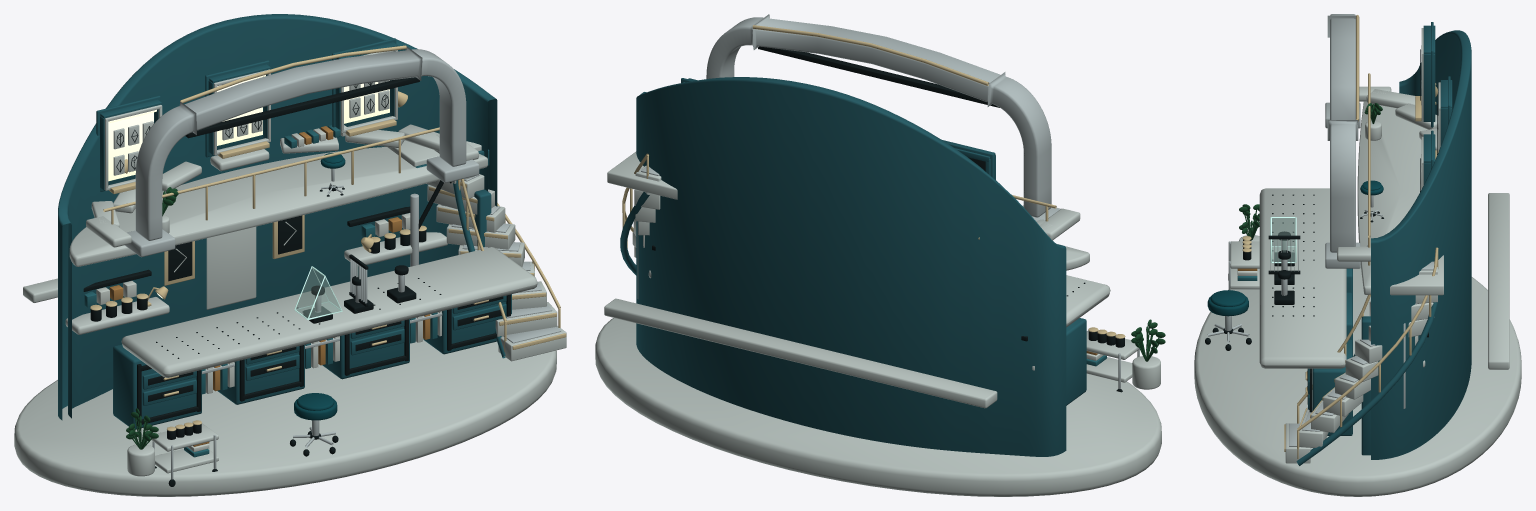
File: lab.glb
The picture shows the model from 3 angles, left to right: view 1: azimuth 30°, elevation 25°; view 2: azimuth 150°, elevation 25°; view 3: azimuth 270°, elevation 25°; orthographic projection. The views are drawn at different scales.
Parts seen in each view (by area): view 1: ART_CURVED_WALL, ART_PLINTH, ALCOVE_INSET_FRAME_-2.75_-0.63_0, ART_OPTICAL_BENCH, ALCOVE_FRAME_-2.75, ART_UPPER_GALLERY, ART_GANTRY, ALCOVE_ENGRAVING_0_0_0_AXIS, ALCOVE_SILL_0, GANTRY_FOOT_LEFT, ALCOVE_GLOW_-2.75, BOOK_1 (+5 smaller); view 2: ART_CURVED_WALL, ART_PLINTH, ALCOVE_INSET_FRAME_-2.75_-0.63_0, ART_GANTRY, ALCOVE_FRAME_-2.75, ALCOVE_ENGRAVING_0_0_0_AXIS, ALCOVE_SILL_0, ART_OPTICAL_BENCH, PLANT_LEAF_0; view 3: ART_PLINTH, ART_CURVED_WALL, ALCOVE_INSET_FRAME_-2.75_-0.63_0, ART_OPTICAL_BENCH, ART_UPPER_GALLERY, ART_GANTRY, ALCOVE_FRAME_-2.75, ALCOVE_SILL_0, GANTRY_FOOT_LEFT, ALCOVE_ENGRAVING_0_0_0_AXIS, STOOL_CUSHION, PRISM_GLASSSOLID (+1 smaller).
Boxes of the visible parts, <box> form: ART_CURVED_WALL: <box>58,14,497,420</box>; ART_PLINTH: <box>14,338,556,496</box>; ALCOVE_INSET_FRAME_-2.75_-0.63_0: <box>23,50,566,476</box>; ART_OPTICAL_BENCH: <box>121,247,537,377</box>; ALCOVE_FRAME_-2.75: <box>96,38,511,429</box>; ART_UPPER_GALLERY: <box>69,147,487,266</box>; ART_GANTRY: <box>135,46,466,240</box>; ALCOVE_ENGRAVING_0_0_0_AXIS: <box>83,77,510,486</box>; ALCOVE_SILL_0: <box>90,45,566,431</box>; GANTRY_FOOT_LEFT: <box>124,156,561,479</box>; ALCOVE_GLOW_-2.75: <box>108,75,389,298</box>; BOOK_1: <box>96,125,441,451</box>; ART_CURVED_WALL: <box>636,77,1066,456</box>; ART_PLINTH: <box>595,318,1161,496</box>; ALCOVE_INSET_FRAME_-2.75_-0.63_0: <box>604,151,1160,408</box>; ART_GANTRY: <box>706,14,1051,217</box>; ALCOVE_FRAME_-2.75: <box>620,78,1086,405</box>; ALCOVE_ENGRAVING_0_0_0_AXIS: <box>652,46,1124,392</box>; ALCOVE_SILL_0: <box>622,25,1125,338</box>; ART_OPTICAL_BENCH: <box>1066,275,1110,327</box>; PLANT_LEAF_0: <box>1131,319,1165,361</box>; ART_PLINTH: <box>1194,265,1521,496</box>; ART_CURVED_WALL: <box>1371,30,1471,459</box>; ALCOVE_INSET_FRAME_-2.75_-0.63_0: <box>1230,28,1509,463</box>; ART_OPTICAL_BENCH: <box>1259,188,1346,368</box>; ART_UPPER_GALLERY: <box>1357,101,1427,294</box>; ART_GANTRY: <box>1327,14,1358,252</box>; ALCOVE_FRAME_-2.75: <box>1296,22,1452,465</box>; ALCOVE_SILL_0: <box>1242,15,1438,458</box>; GANTRY_FOOT_LEFT: <box>1207,102,1433,446</box>; ALCOVE_ENGRAVING_0_0_0_AXIS: <box>1205,49,1437,412</box>; STOOL_CUSHION: <box>1207,180,1383,316</box>; PRISM_GLASSSOLID: <box>1272,218,1295,261</box>.
Size of the model in its own units: 12 by 7.72 by 7.
